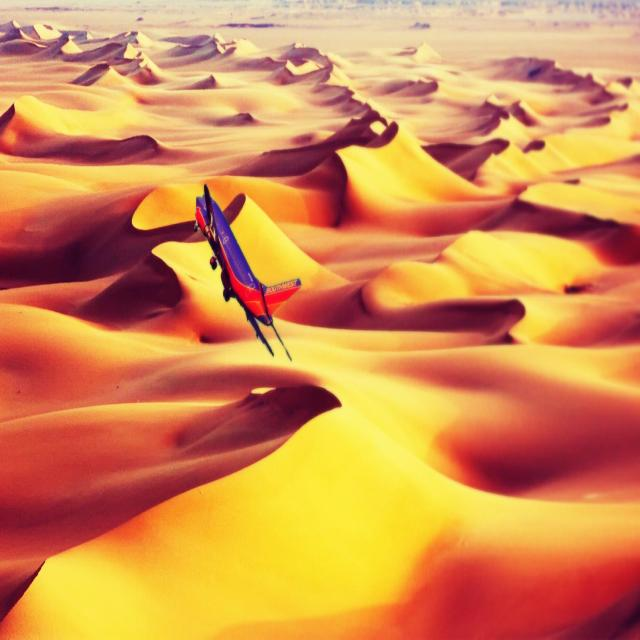airplane: (193, 182, 301, 361)
